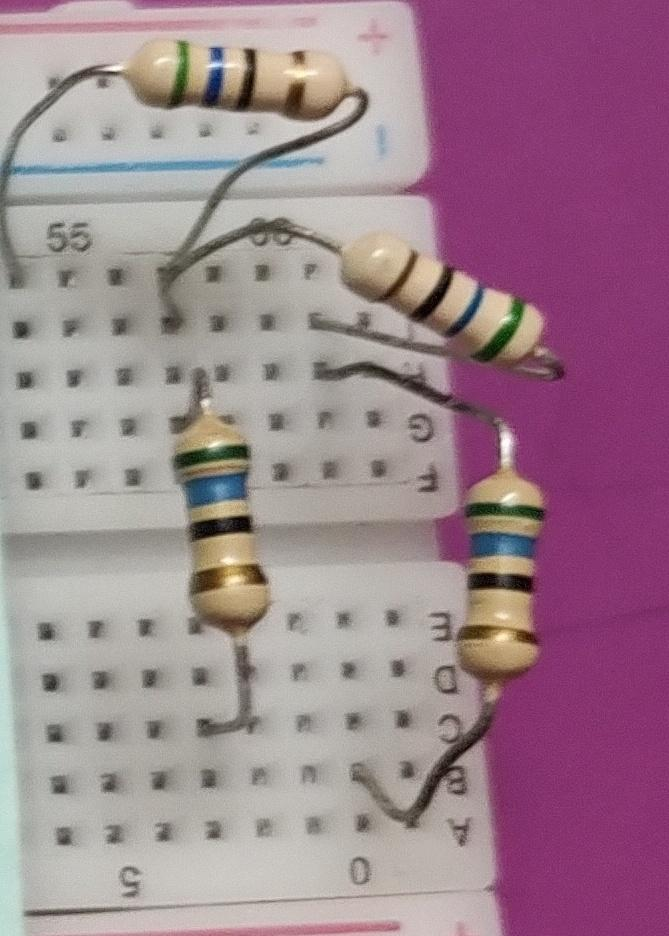resistor: (153, 395, 305, 643), (337, 217, 554, 380), (121, 27, 373, 146), (453, 461, 552, 701)
